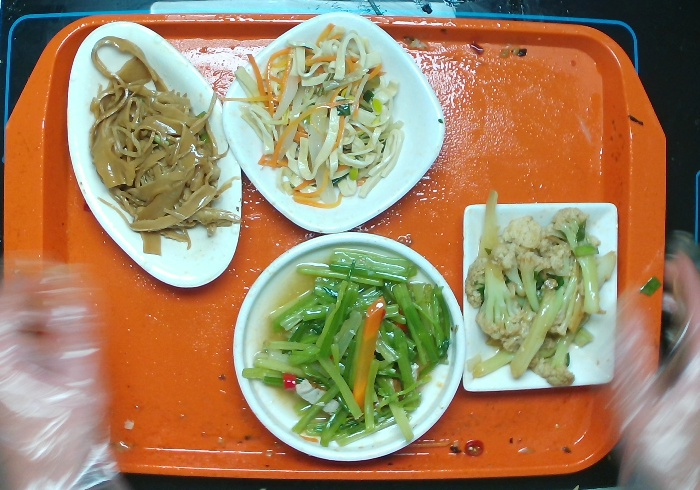HZYJPL-Si_Fang_Die: (461, 203, 620, 393)
HZYJPL-Si_Fang_Yuan_Die: (219, 9, 446, 235)
HZYJPL-Xiao_Yu_Die: (63, 20, 244, 296)
HZYJPL-Xiao_Yuan_Die: (230, 231, 465, 462)
